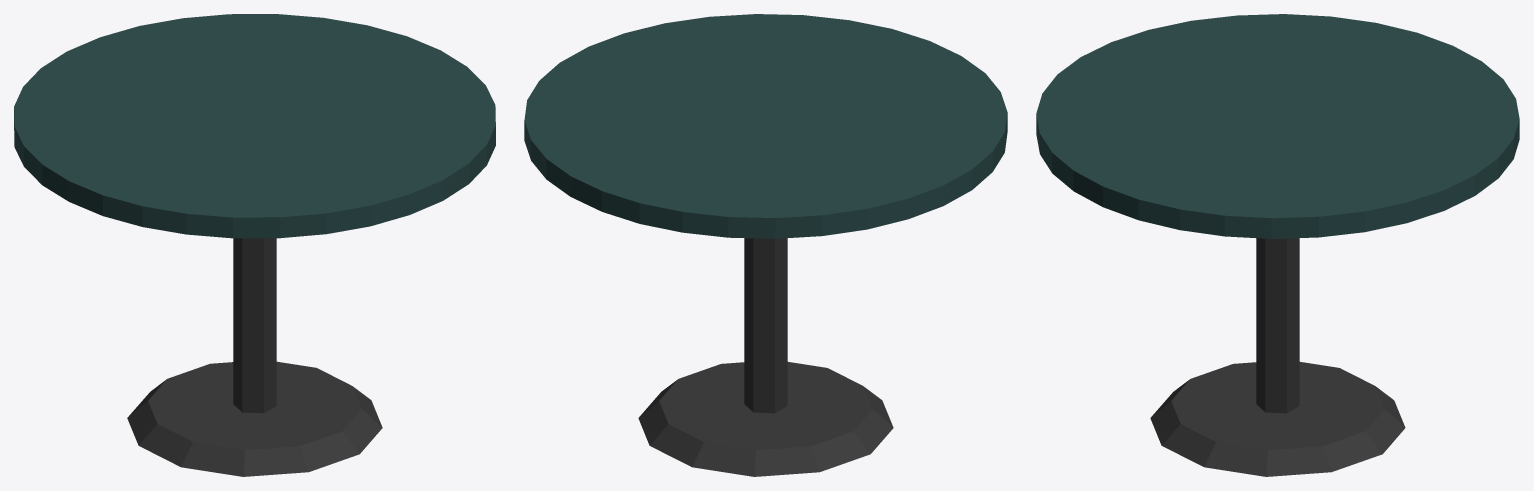
Rendered from Table_2.glb.
3 renders of one model, left to right at view 1: azimuth 30°, elevation 25°; view 2: azimuth 150°, elevation 25°; view 3: azimuth 270°, elevation 25°, orthographic.
Parts seen in each view (by area): view 1: Table 2; view 2: Table 2; view 3: Table 2.
Boxes of the visible parts, x1,y1,x2,y2 form: Table 2: [14, 14, 495, 476]; Table 2: [524, 14, 1007, 476]; Table 2: [1036, 14, 1519, 476].
Size of the model in its own units: 1.01 by 0.7056 by 1.01.
